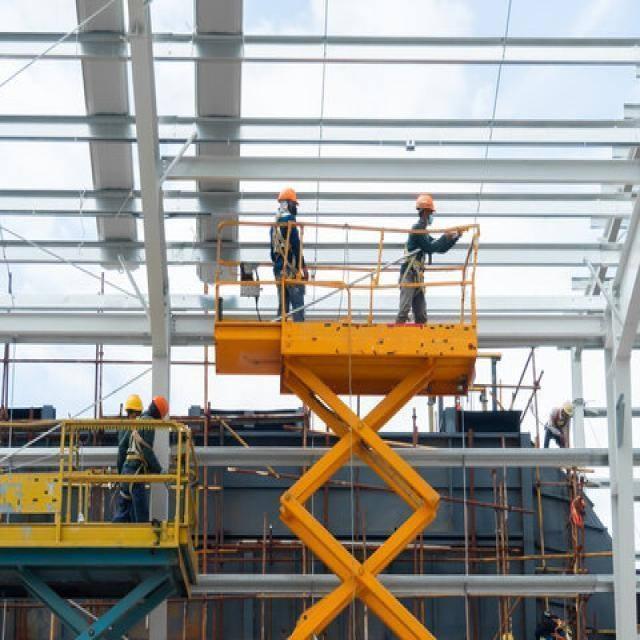Arnes_seguridad: (117, 419, 153, 500), (271, 218, 302, 280), (401, 229, 426, 296)
